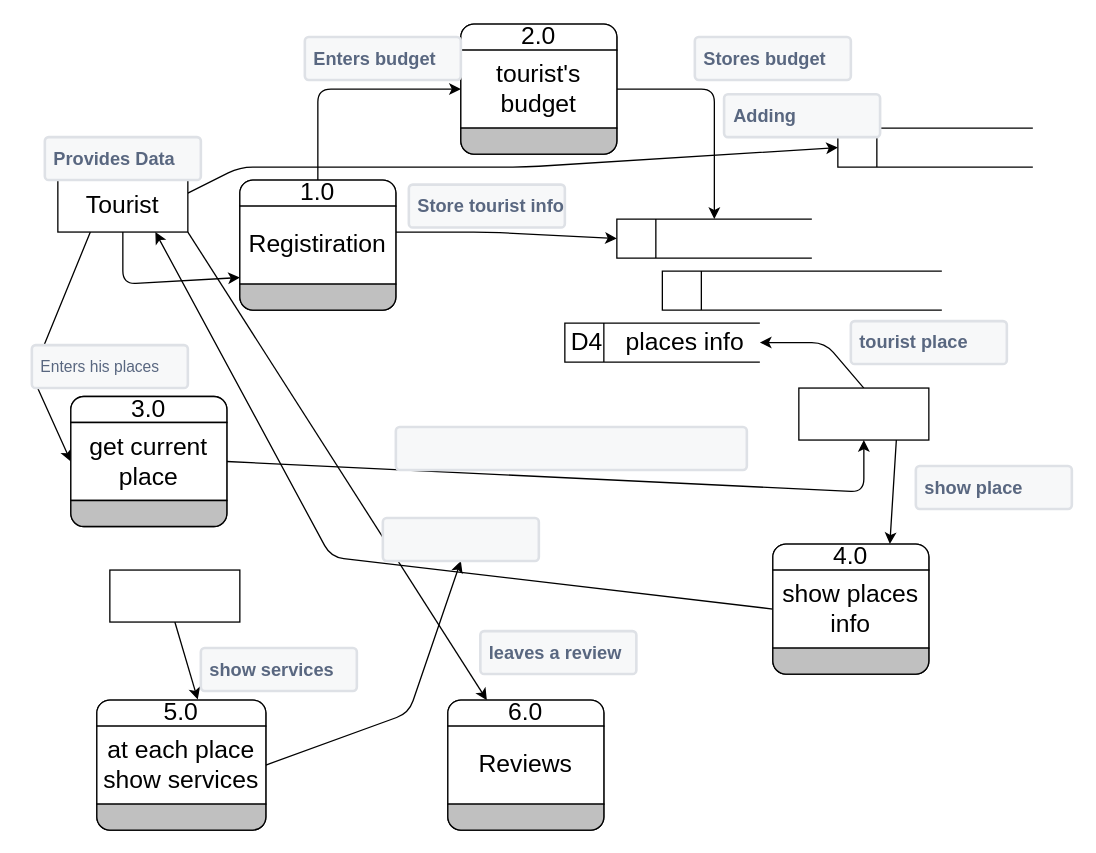
Some shapes in this 1096 by 853 pixel diagram are drawn without their labels. The box of each missing label's shape, as (x1, y1, x2, y2) in pixels:
D1 tourist info: (616, 218, 812, 258)
D2 Favorite: (837, 127, 1033, 167)
D3 store visited places: (661, 270, 942, 310)
Finding place suits ot tourists location: (394, 425, 748, 471)
Places: (798, 387, 929, 440)
Services: (109, 569, 240, 622)
Show on screen: (381, 516, 540, 562)
